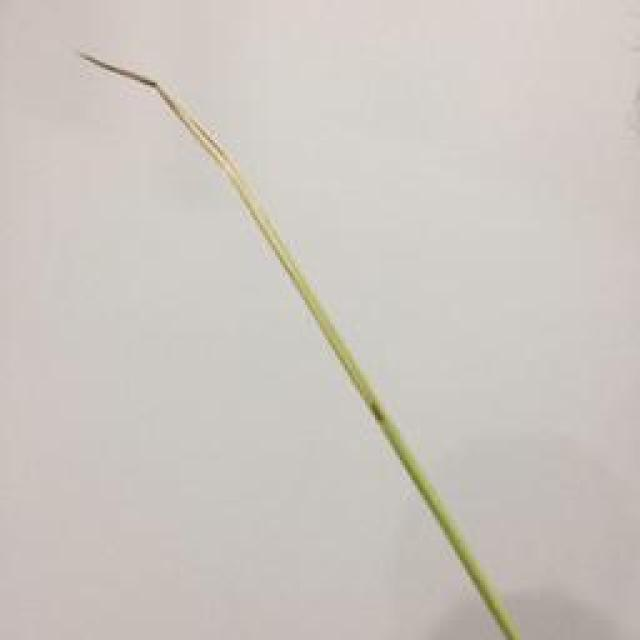Bacterial_Blight: (78, 52, 297, 279)
Brown_Spot: (357, 397, 393, 434)
